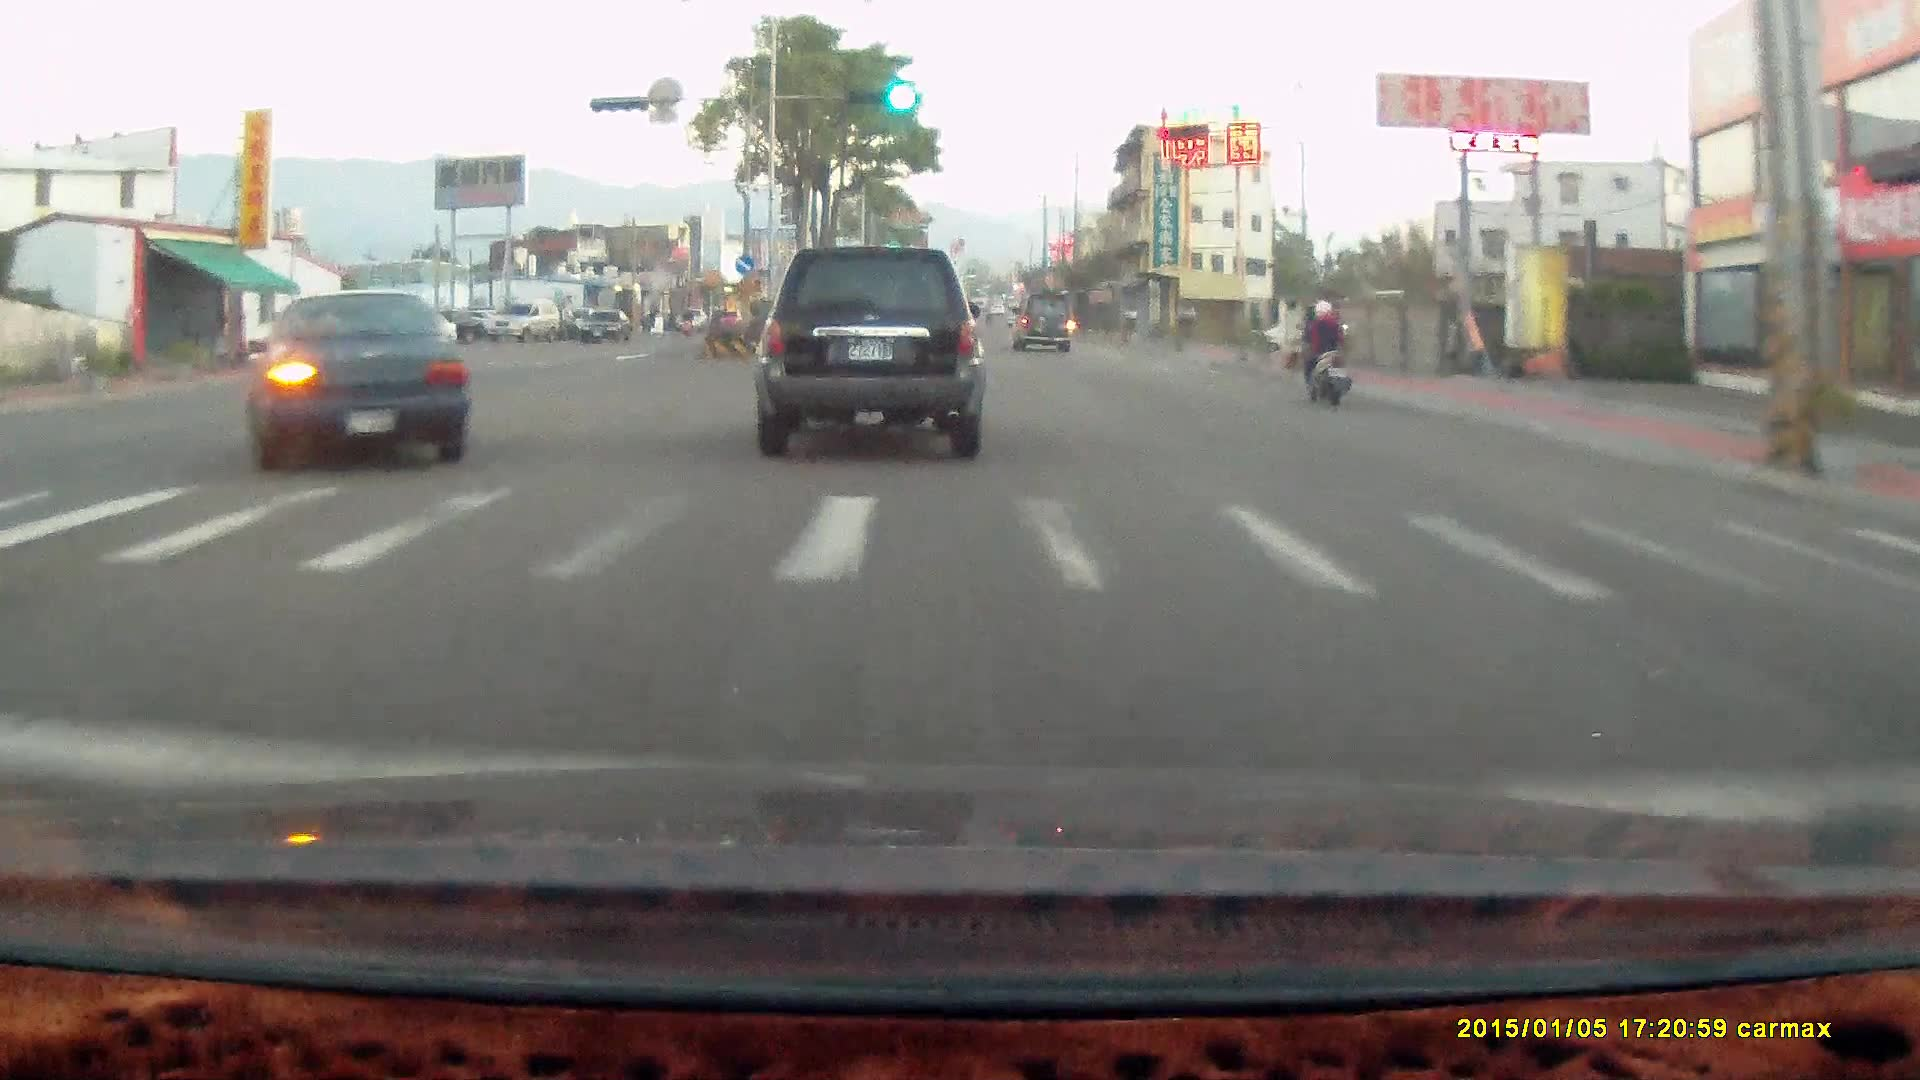rider: (1284, 286, 1362, 416), (1297, 294, 1353, 407)
vehicle: (760, 247, 990, 460), (752, 245, 981, 457), (243, 285, 471, 475), (245, 289, 471, 471), (1016, 292, 1077, 361), (1009, 292, 1073, 352), (480, 300, 559, 346), (483, 299, 558, 343), (578, 307, 631, 343)
